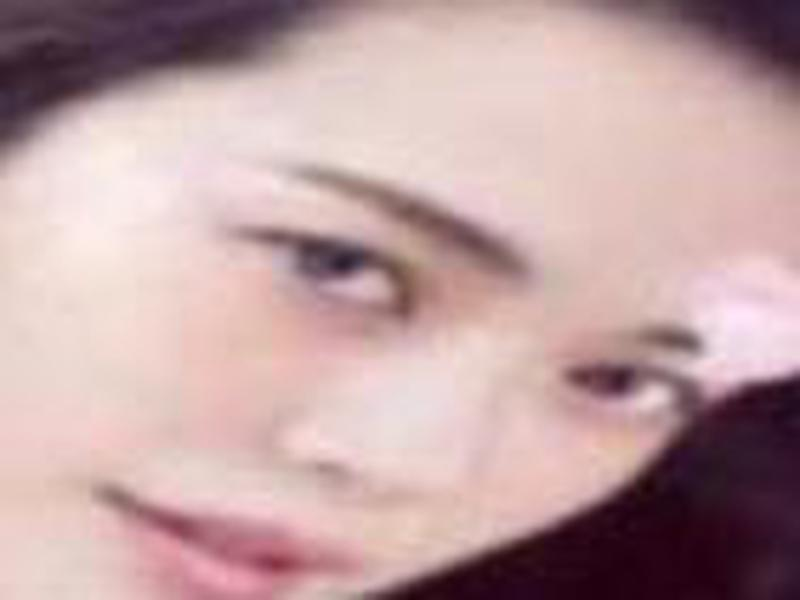without_mask: (2, 44, 800, 600)
